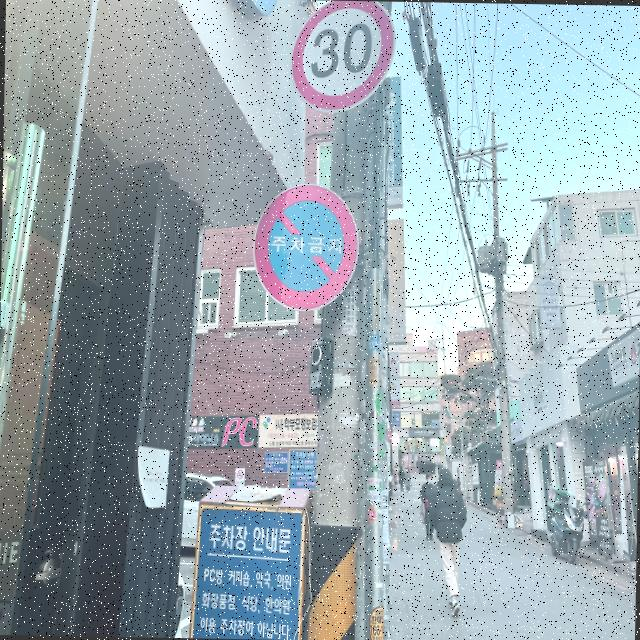Ograniczenie predkosci do 30: (290, 5, 392, 113)
